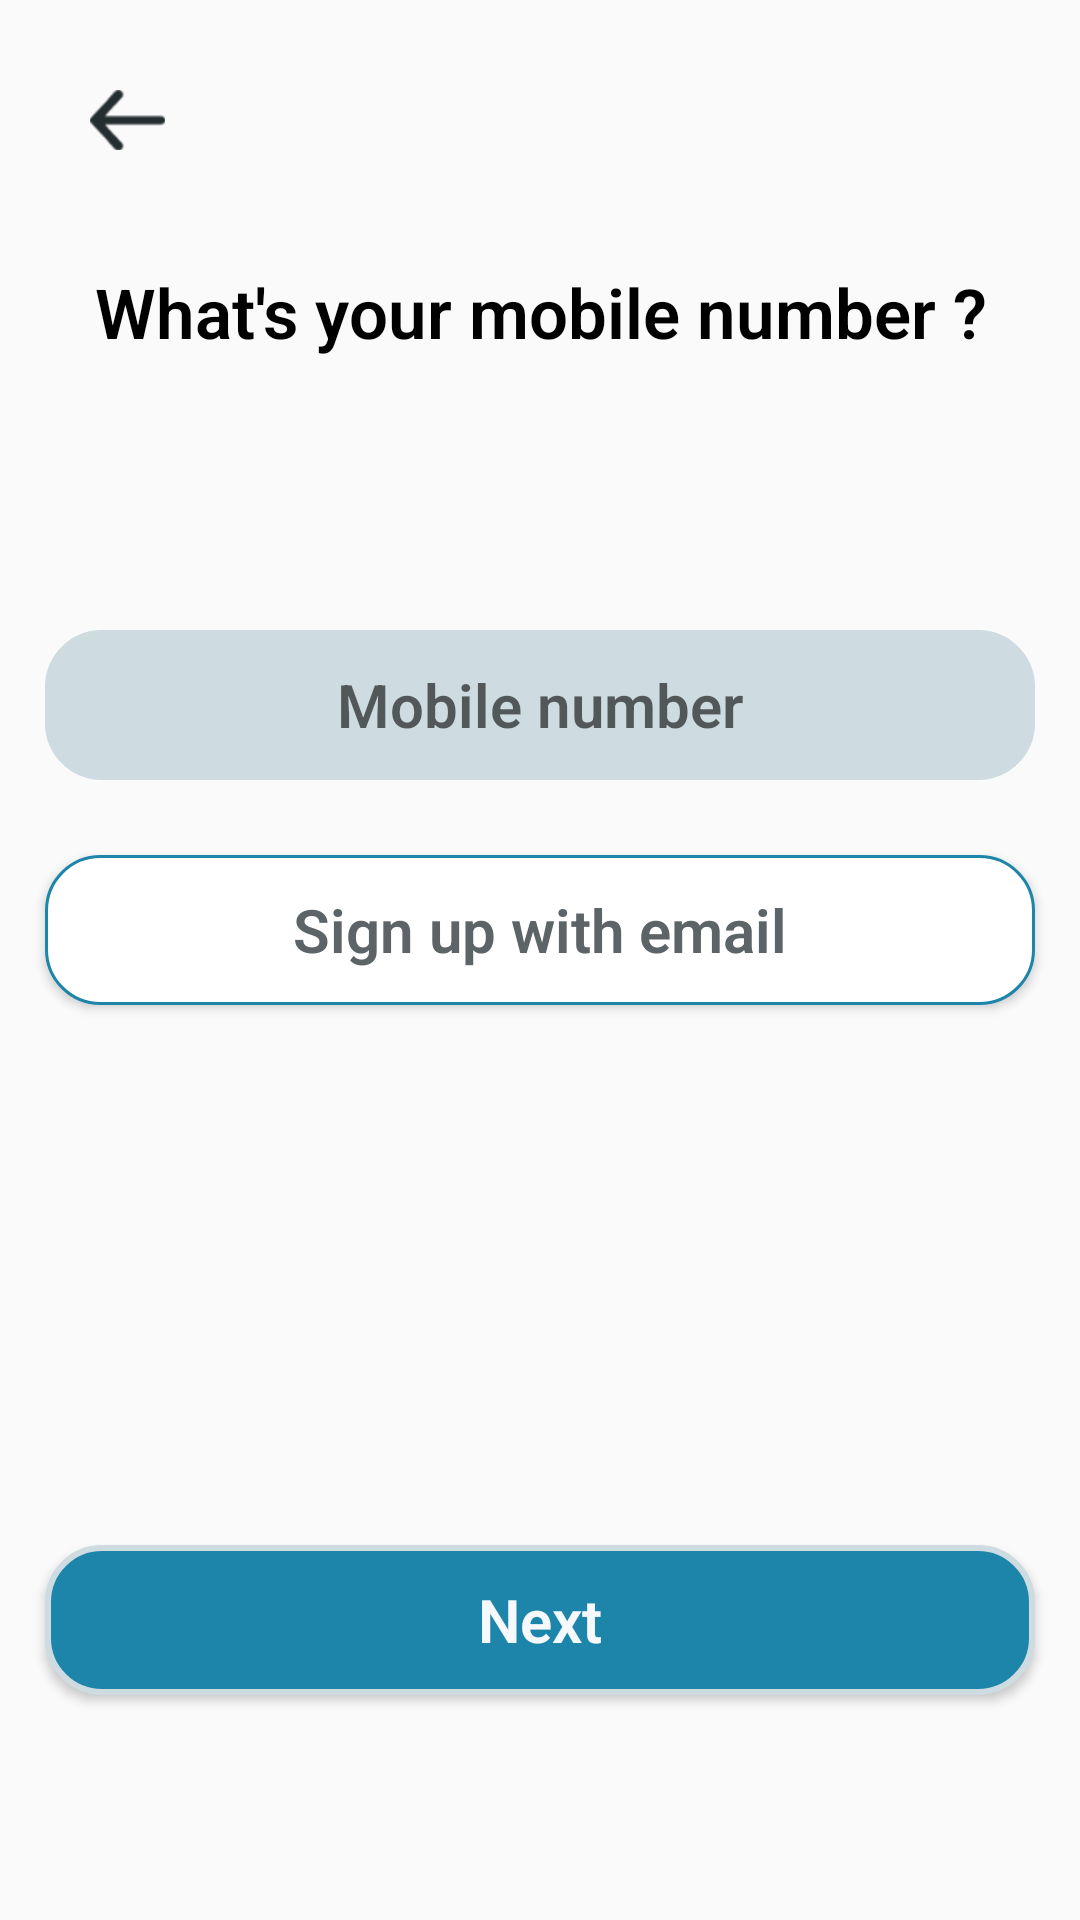

Named icons in this screenshot (1080x1920) and their centers, (x=x, y=y):
arrow: (x=127, y=120)
